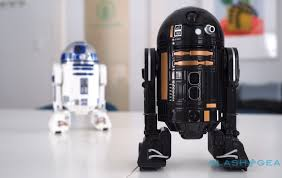r2d2: (48, 39, 111, 134)
